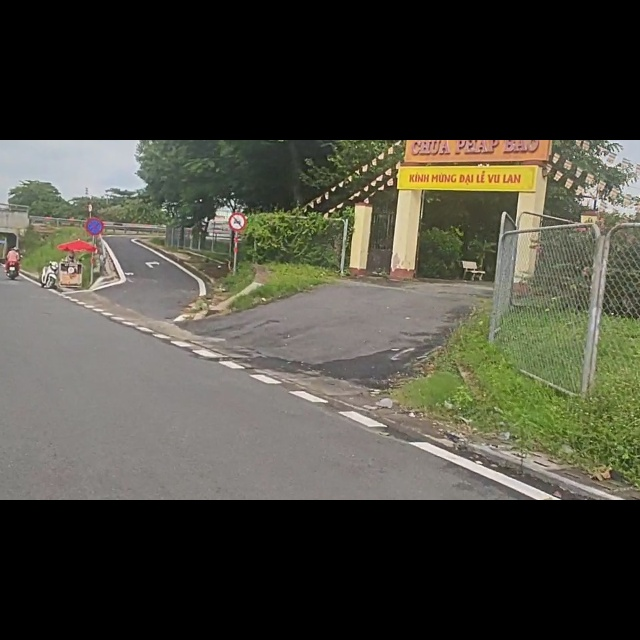bien_cam: (227, 129, 247, 162), (86, 137, 104, 171)
